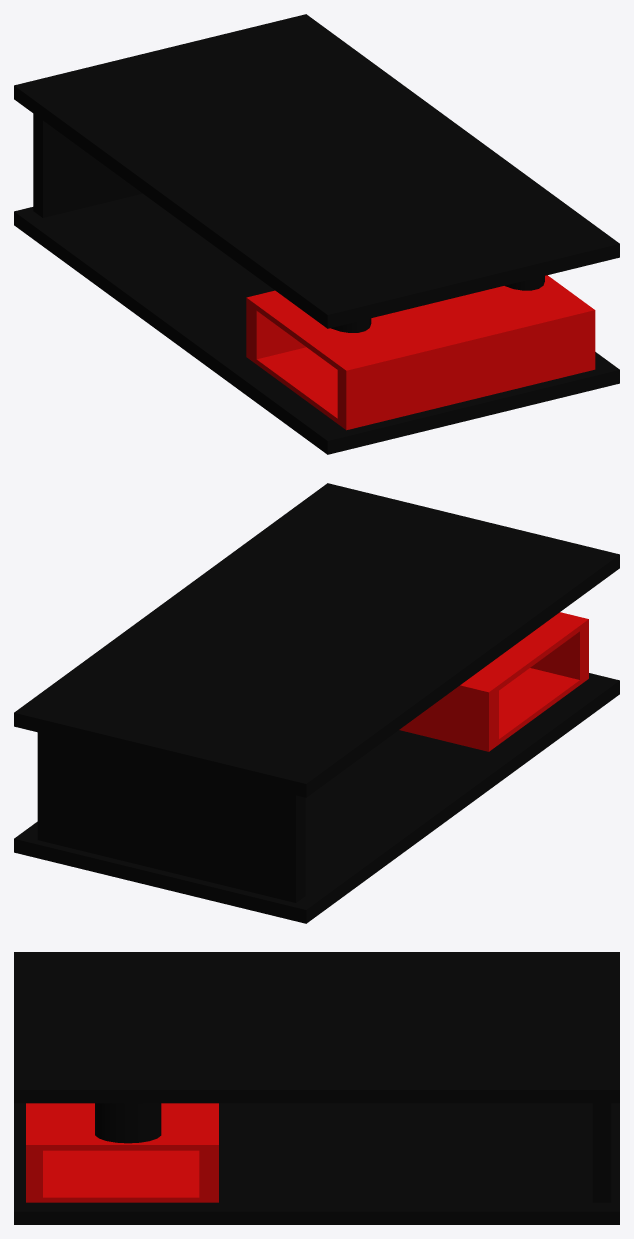
The model's file is 沙發桌1.FBX.
The picture shows the model from 3 angles, top to bottom: view 1: azimuth 30°, elevation 25°; view 2: azimuth 150°, elevation 25°; view 3: azimuth 270°, elevation 25°; orthographic projection. The views are drawn at different scales.
Visible parts, largest first — view 1: Box004, Box006, Box003, Box005; view 2: Box004, Box003, Box005, Box006; view 3: Box004, Box003, Box006, Cylinder002, Box005.
Boxes of the visible parts, x1,y1,x2,y2 form: Box004: (14, 14, 619, 328); Box006: (246, 275, 595, 430); Box003: (14, 194, 619, 454); Box005: (33, 113, 142, 217); Box004: (14, 483, 619, 797); Box003: (14, 673, 619, 923); Box005: (37, 732, 305, 902); Box006: (399, 612, 588, 751); Box004: (14, 952, 619, 1103); Box003: (14, 1103, 619, 1224); Box006: (26, 1103, 218, 1202); Cylinder002: (95, 1103, 161, 1143); Box005: (592, 1103, 611, 1202).
Size of the model in its own units: 44.25 by 20.23 by 82.25.
